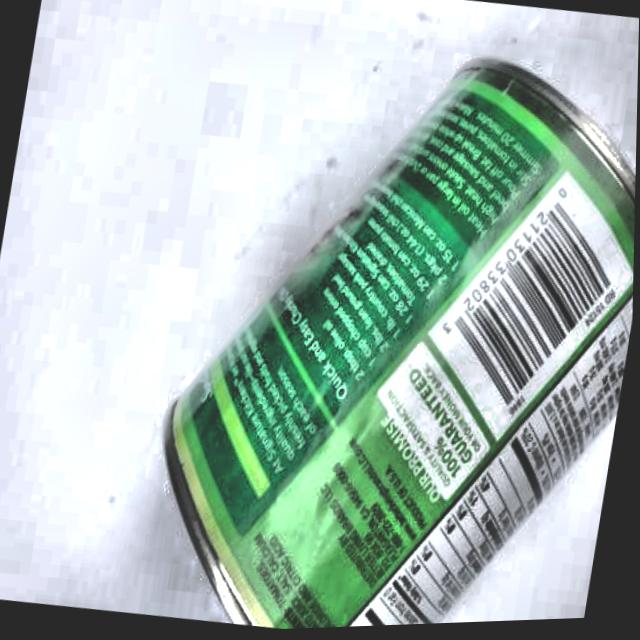Cans: (112, 2, 640, 636)
